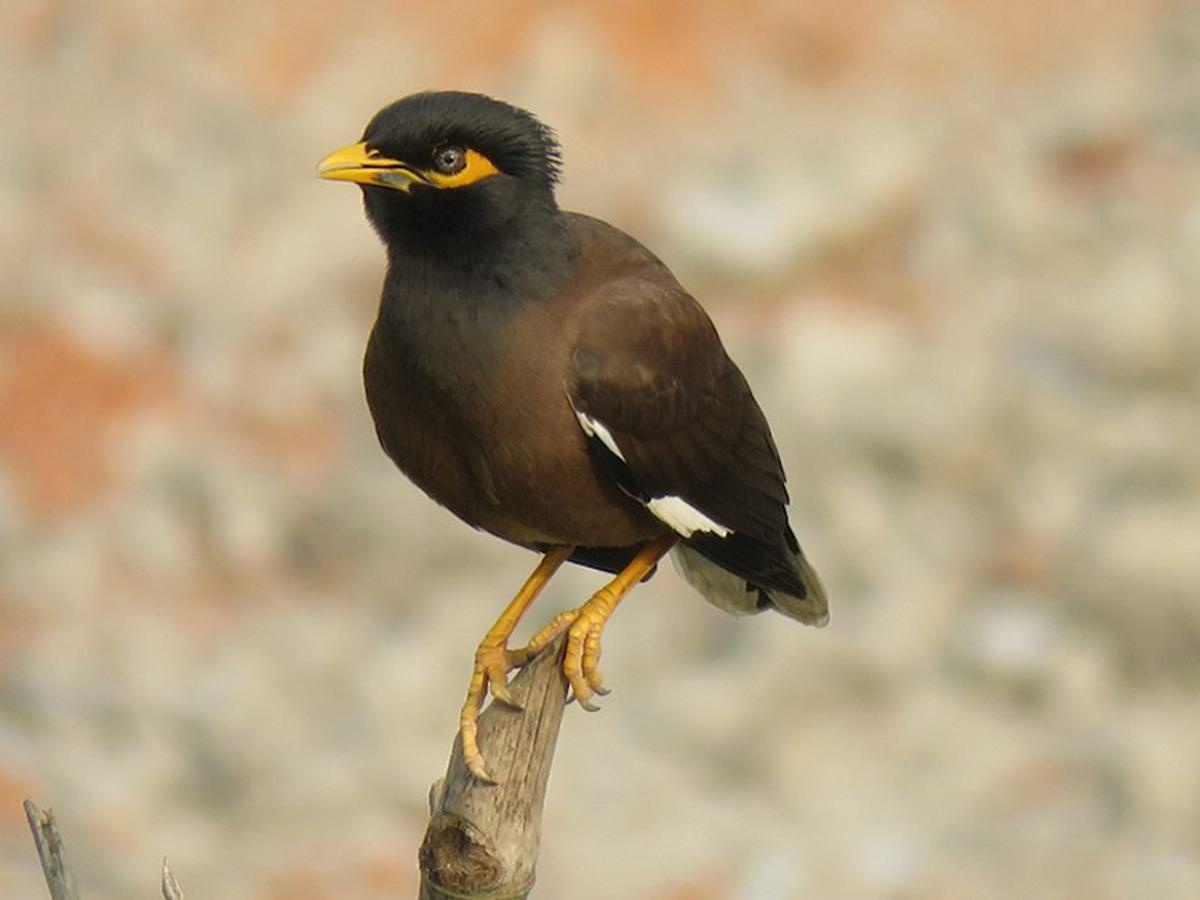myna: (323, 76, 833, 736)
